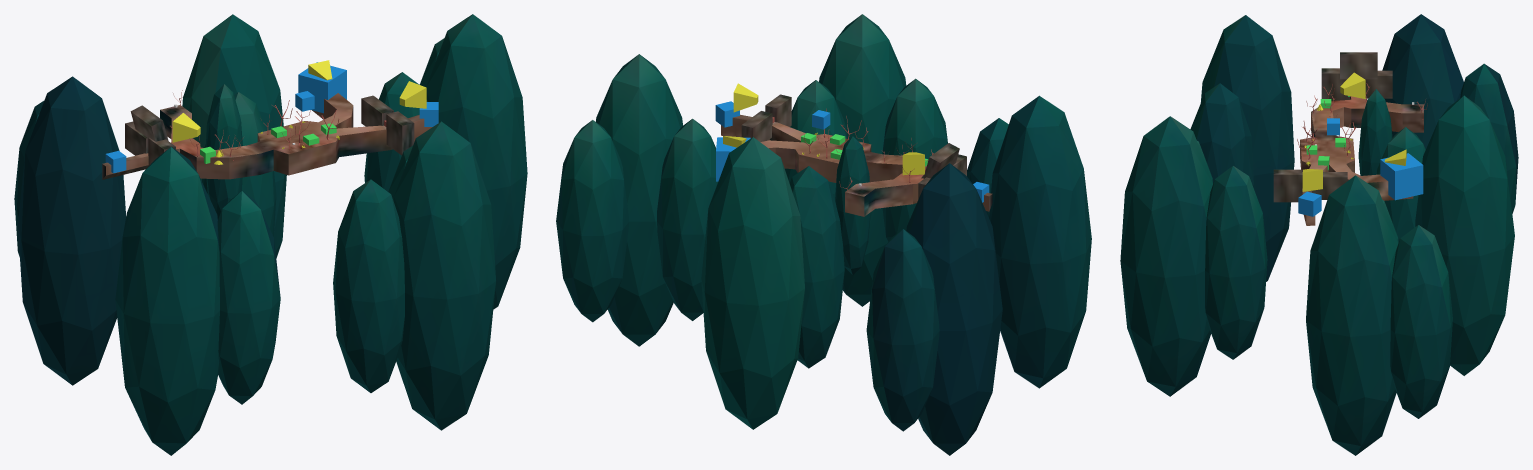
File: demo-courtyard.gltf
The picture shows the model from 3 angles, left to right: view 1: azimuth 30°, elevation 25°; view 2: azimuth 150°, elevation 25°; view 3: azimuth 270°, elevation 25°; orthographic projection. The views are drawn at different scales.
Parts seen in each view (by area): view 1: Icosphere.004, Icosphere.002, Icosphere.006, Icosphere.009, Icosphere.008, Icosphere.003, defaultCube.004, Icosphere, Icosphere.012, Icosphere.001, Icosphere.011, Cube.005 (+7 smaller); view 2: Icosphere, Icosphere.002, Icosphere.004, Icosphere.009, Icosphere.005, Icosphere.010, Icosphere.006, Icosphere.011, Icosphere.001, defaultCube.004, Icosphere.008, Icosphere.012 (+5 smaller); view 3: Icosphere.009, Icosphere.006, Icosphere, Icosphere.002, Icosphere.010, Icosphere.007, Icosphere.004, defaultCube.004, Icosphere.003, Icosphere.005, Icosphere.012, Icosphere.001 (+9 smaller).
Boxes of the visible parts, bbox=[...] form: Icosphere.004: bbox=[18, 76, 126, 385]; Icosphere.002: bbox=[115, 147, 219, 455]; Icosphere.006: bbox=[393, 121, 495, 430]; Icosphere.009: bbox=[426, 14, 527, 309]; Icosphere.008: bbox=[333, 179, 404, 392]; Icosphere.003: bbox=[217, 191, 280, 404]; defaultCube.004: bbox=[102, 93, 432, 179]; Icosphere: bbox=[182, 14, 286, 258]; Icosphere.012: bbox=[205, 84, 242, 218]; Icosphere.001: bbox=[202, 92, 276, 236]; Icosphere.011: bbox=[364, 72, 427, 191]; Cube.005: bbox=[298, 62, 346, 113]; Icosphere: bbox=[701, 137, 804, 429]; Icosphere.002: bbox=[989, 95, 1091, 388]; Icosphere.004: bbox=[906, 163, 1002, 455]; Icosphere.009: bbox=[596, 54, 682, 346]; Icosphere.005: bbox=[866, 229, 939, 431]; Icosphere.010: bbox=[556, 120, 628, 322]; Icosphere.006: bbox=[819, 14, 906, 306]; Icosphere.011: bbox=[657, 118, 717, 320]; Icosphere.001: bbox=[789, 166, 844, 368]; defaultCube.004: bbox=[721, 114, 992, 216]; Icosphere.008: bbox=[882, 78, 947, 241]; Icosphere.012: bbox=[835, 136, 870, 274]; Icosphere.009: bbox=[1306, 175, 1398, 455]; Icosphere.006: bbox=[1120, 116, 1212, 396]; Icosphere: bbox=[1415, 95, 1514, 375]; Icosphere.002: bbox=[1200, 15, 1294, 281]; Icosphere.010: bbox=[1390, 225, 1452, 418]; Icosphere.007: bbox=[1205, 166, 1267, 359]; Icosphere.004: bbox=[1382, 14, 1463, 149]; defaultCube.004: bbox=[1300, 96, 1423, 225]; Icosphere.003: bbox=[1190, 83, 1253, 187]; Icosphere.005: bbox=[1460, 63, 1518, 213]; Icosphere.012: bbox=[1358, 89, 1392, 175]; Icosphere.001: bbox=[1376, 127, 1425, 241].
Size of the model in its own units: 312 by 200 by 257.
5 materials, 1 textured.
